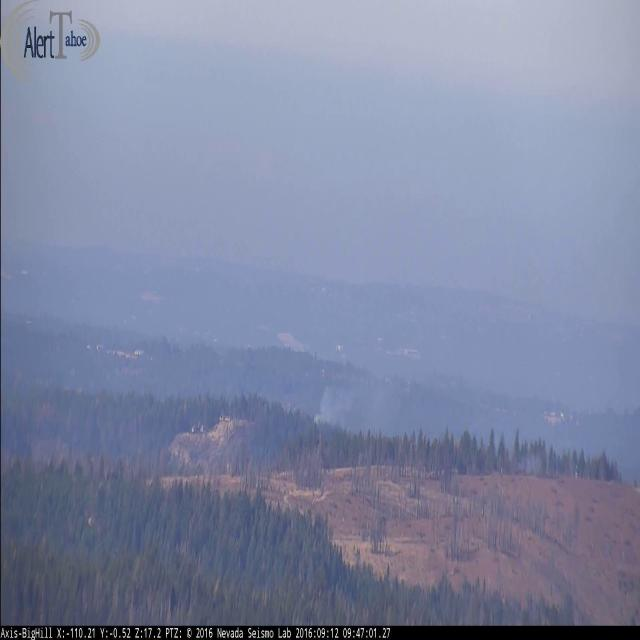smoke: (312, 373, 454, 432)
